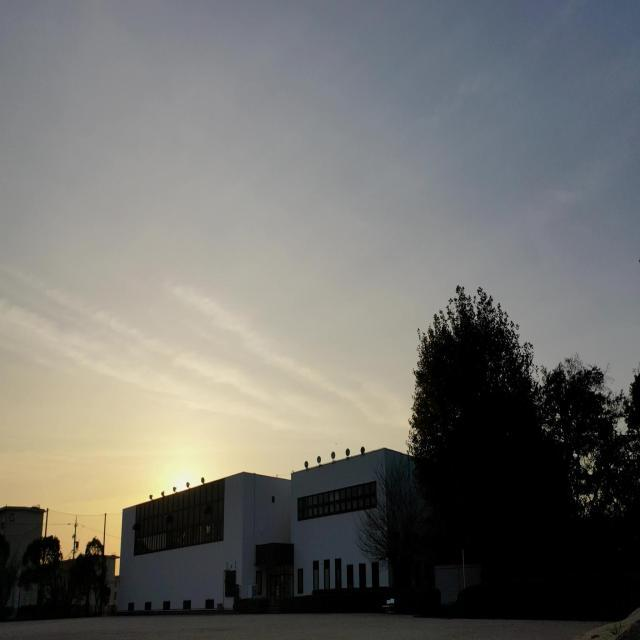Birds: (334, 440, 340, 448)
